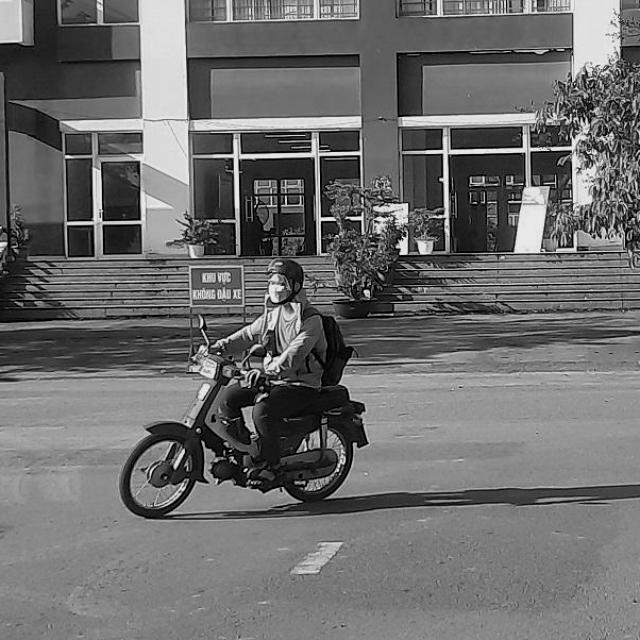Helmet: (262, 254, 308, 305)
